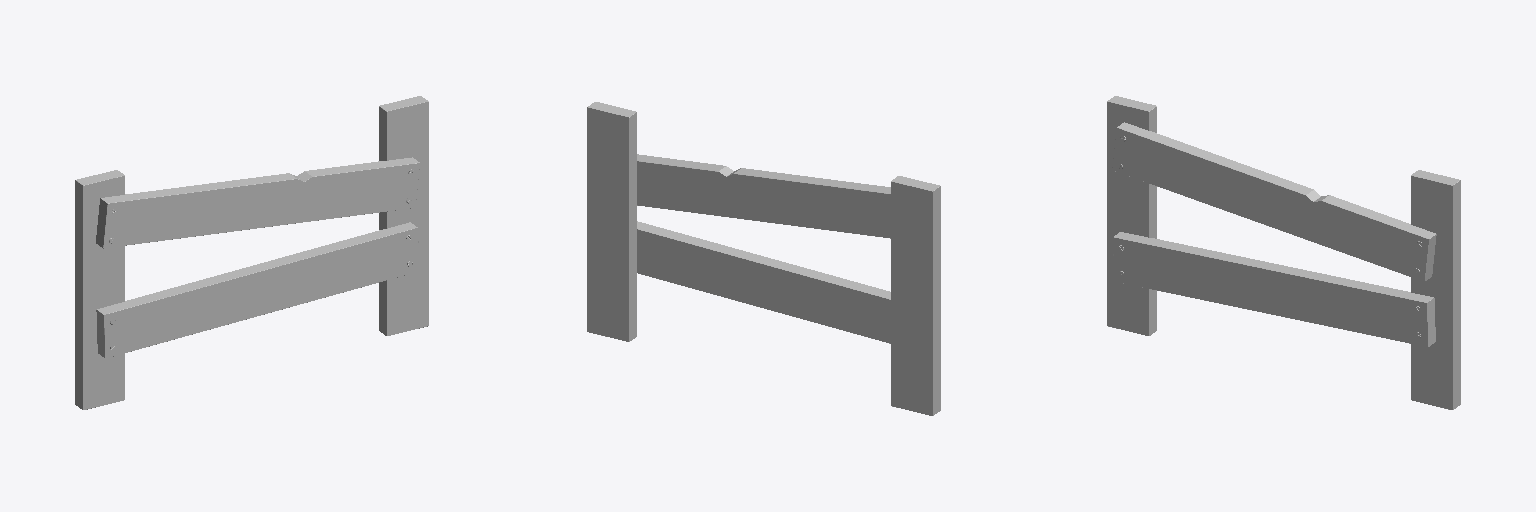
The model's file is fence1.obj.
The picture shows the model from 3 angles: view 1: azimuth 30°, elevation 25°; view 2: azimuth 150°, elevation 25°; view 3: azimuth 330°, elevation 25°; orthographic projection.
Visible parts, largest first — view 1: Fence1; view 2: Fence1; view 3: Fence1.
Boxes of the visible parts, x1,y1,x2,y2 form: Fence1: [75, 96, 428, 409]; Fence1: [587, 102, 940, 415]; Fence1: [1107, 96, 1460, 409].
Bounding box in the file's own units: 3.51 × 2.18 × 0.2806.